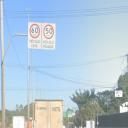speed_limit_50: (43, 24, 54, 40)
speed_limit_60: (30, 24, 40, 38)
